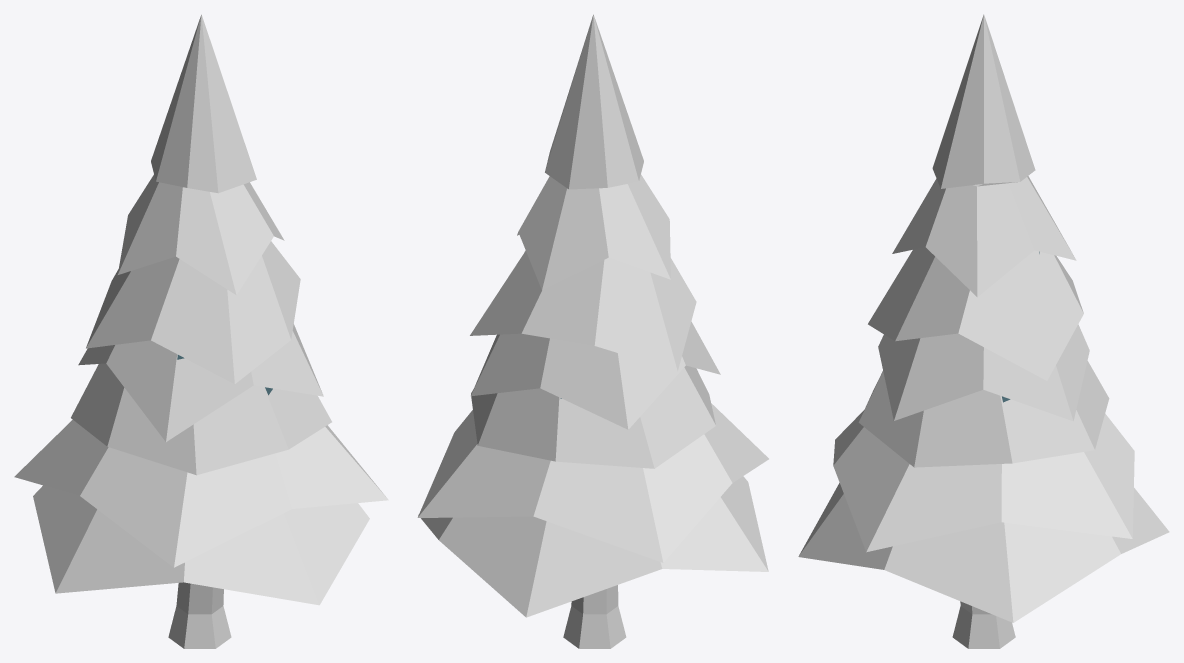
The model's file is resource__tree__pine-tree-midium.fbx.
3 renders of one model, left to right at view 1: azimuth 30°, elevation 25°; view 2: azimuth 150°, elevation 25°; view 3: azimuth 270°, elevation 25°, orthographic.
Parts seen in each view (by area): view 1: Pine_Tree_Midium; view 2: Pine_Tree_Midium; view 3: Pine_Tree_Midium.
Boxes of the visible parts, x1,y1,x2,y2 form: Pine_Tree_Midium: (14,14,388,648); Pine_Tree_Midium: (417,14,768,648); Pine_Tree_Midium: (798,14,1169,648).
Bounding box in the file's own units: 147 × 273 × 147.
